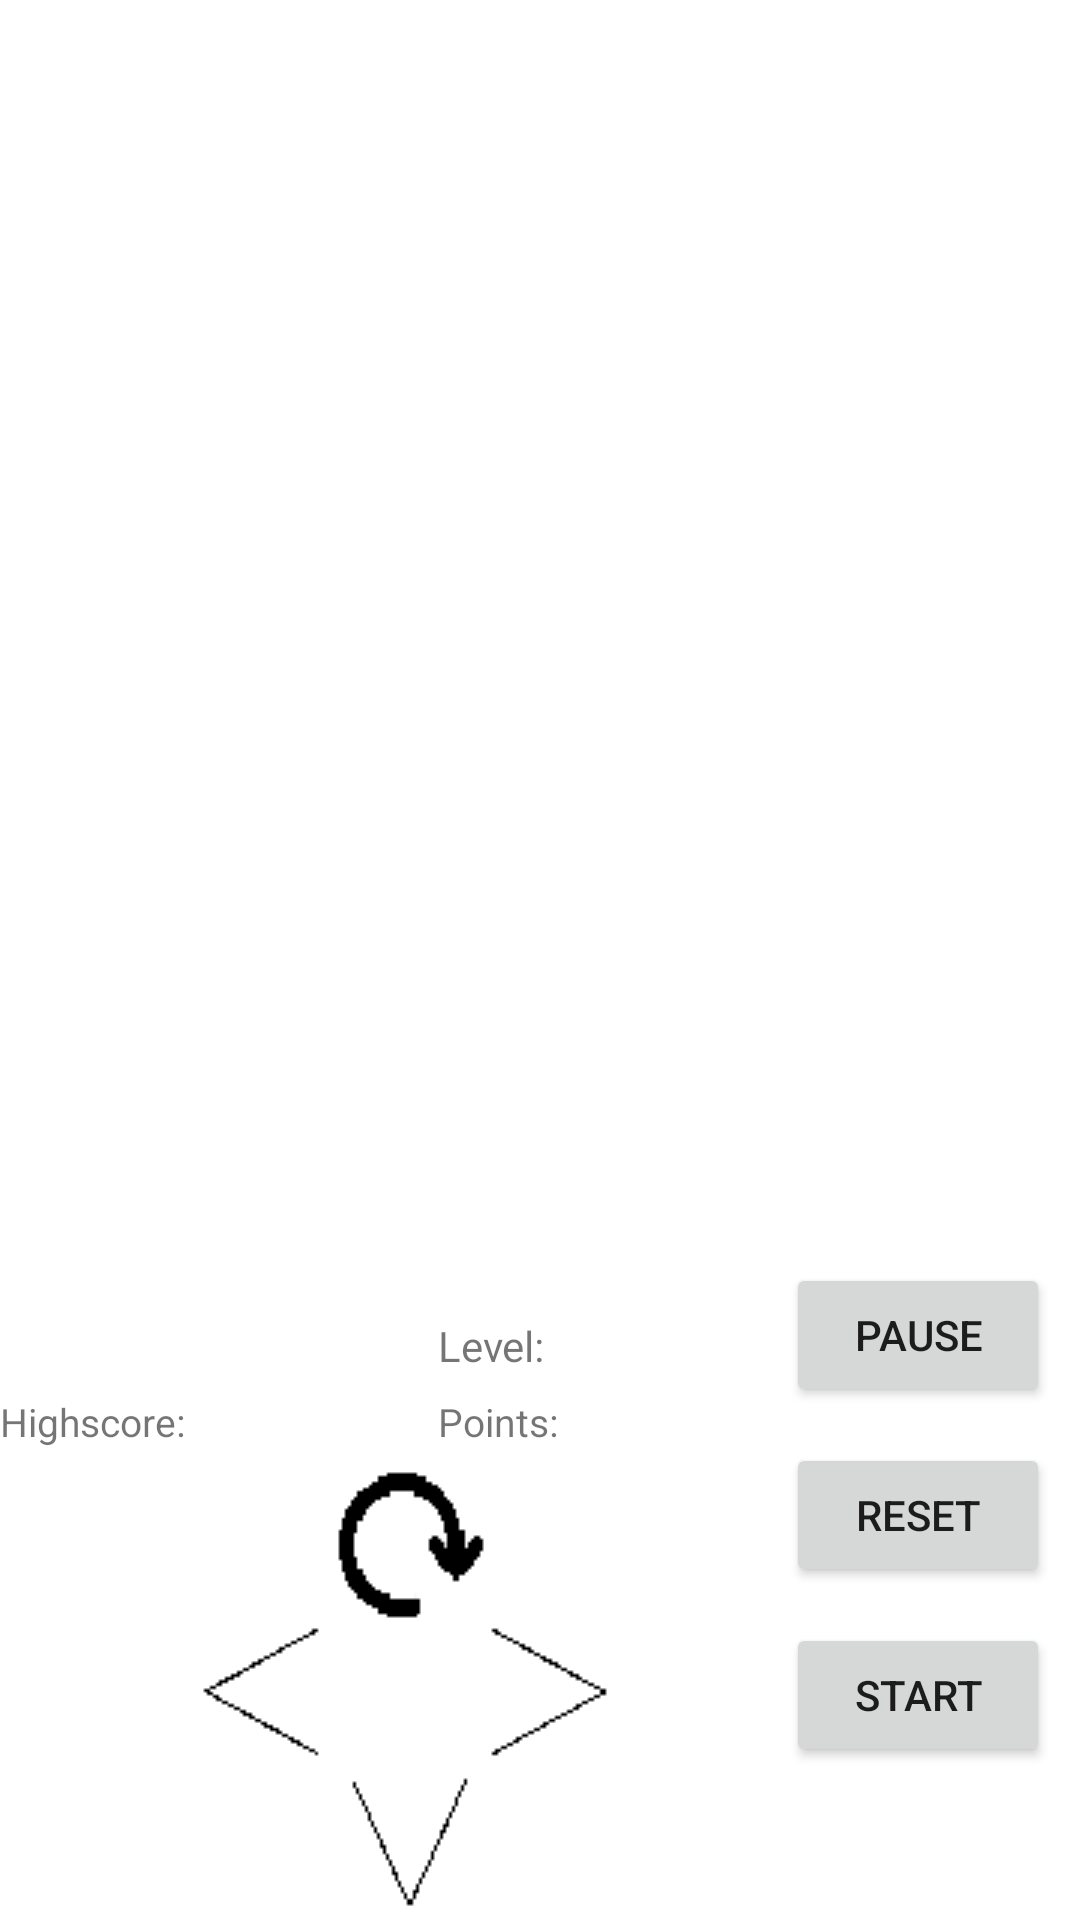

Named icons in this screenshot (1080 × 1920) and their centers, point (x, y):
arrowdown: point (410, 1842)
arrowleft: point (261, 1692)
arrowright: point (549, 1692)
arrowrotate: point (411, 1545)
